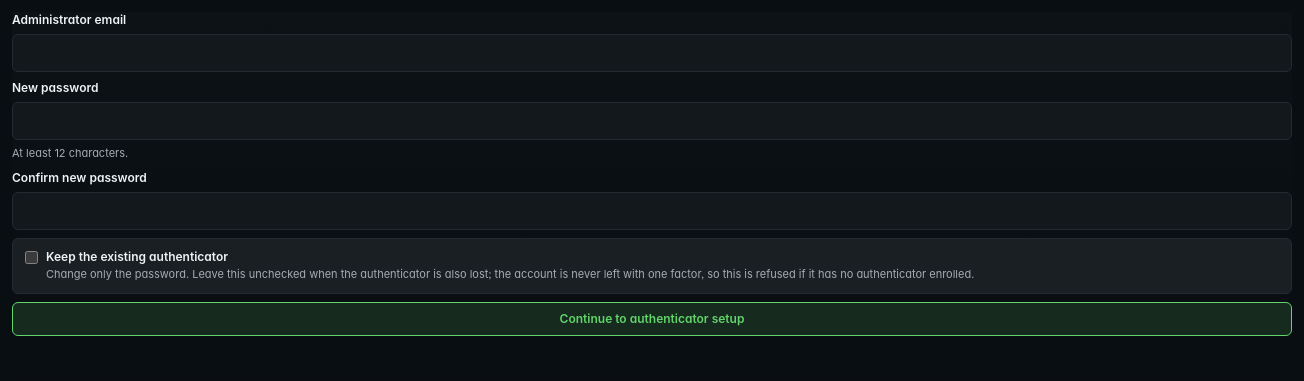
it: AdministratorPasswordReset › refuses to send anything without a recovery token
Step 1. Type "ops@example.com" into the field labelled "Administrator email" → (652, 53), box [12,34,1292,72]
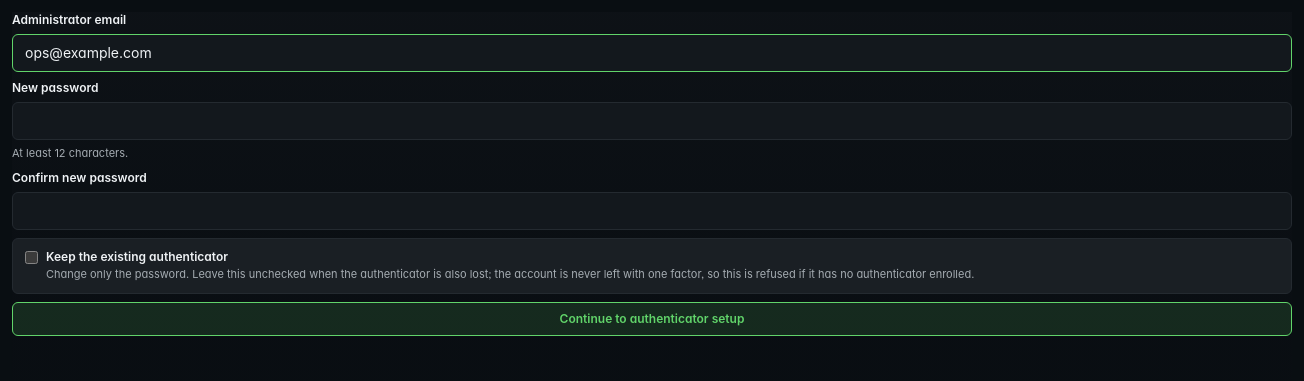
Step 2. Type "correct horse battery staple" into the password field labelled "New password At least 12 characters." → (652, 121), box [12,102,1292,140]
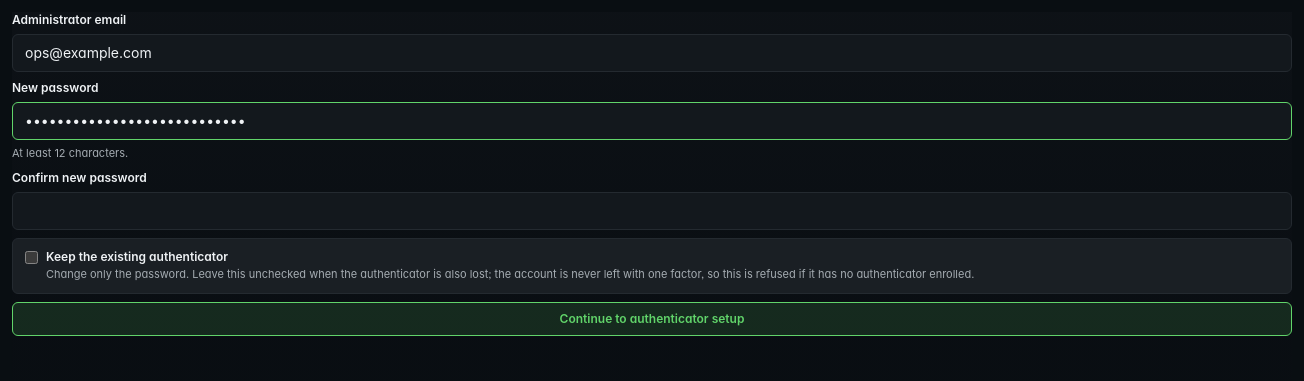
Step 3. Type "correct horse battery staple" into the password field labelled "Confirm new password" → (652, 211), box [12,192,1292,230]
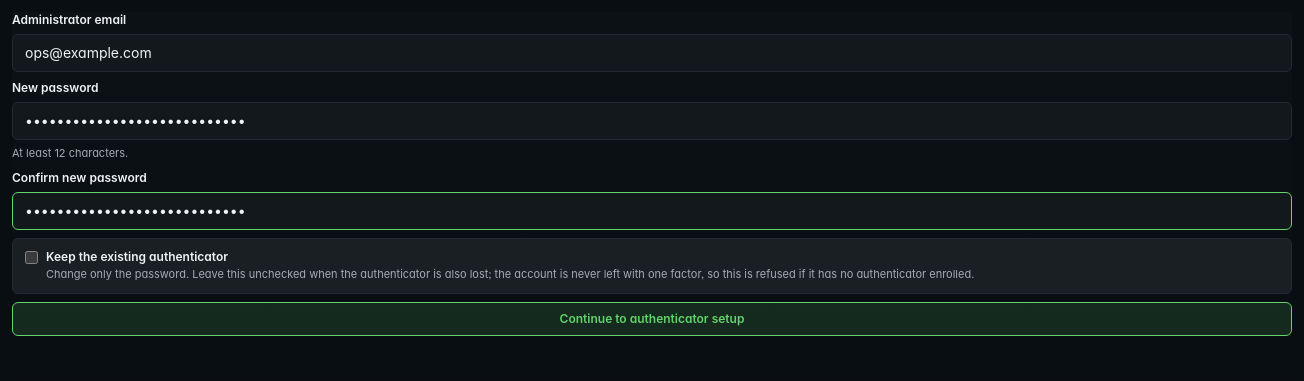
Step 4. Click the checkbox labelled "Keep the existing authenticator" → (32, 257), box [25,251,38,264]
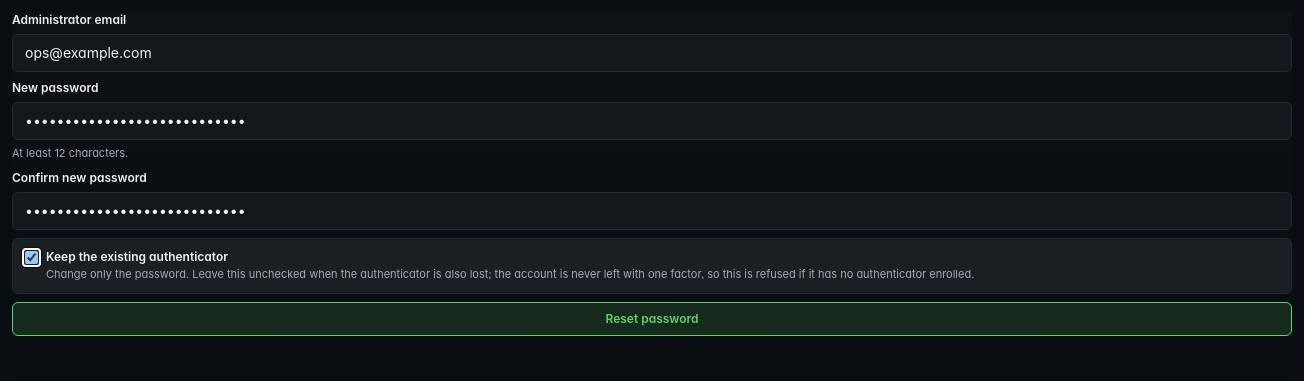
Step 5. Click the button "Reset password" → (652, 319), box [12,302,1292,336]
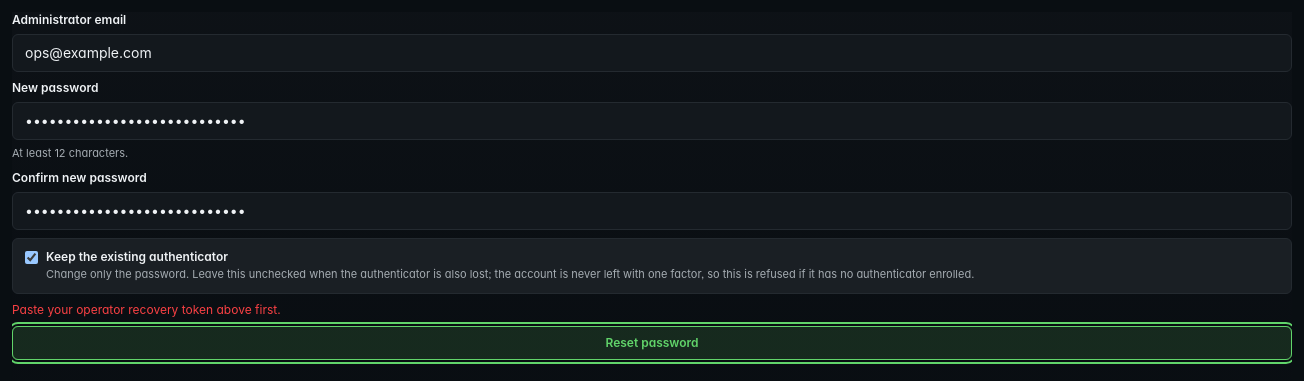
Check: the text "Paste your operator recovery token above first." is shown, box [12,302,281,317]
